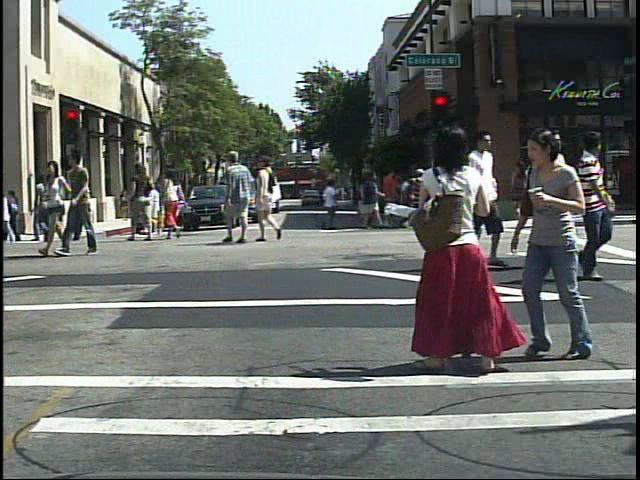person: (398, 123, 501, 378), (513, 121, 605, 367), (449, 129, 514, 277), (526, 132, 587, 280), (573, 127, 624, 283), (447, 141, 494, 248), (63, 148, 102, 261), (217, 149, 256, 247), (39, 159, 76, 261), (256, 152, 285, 247), (159, 164, 191, 245), (124, 163, 155, 242), (69, 169, 94, 246), (481, 165, 508, 233), (406, 165, 432, 234), (41, 176, 48, 244)
